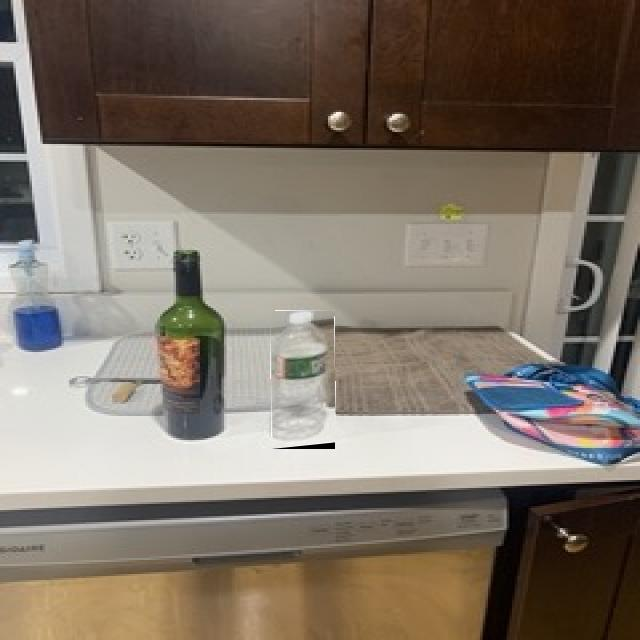water_bottle: (271, 311, 335, 449)
